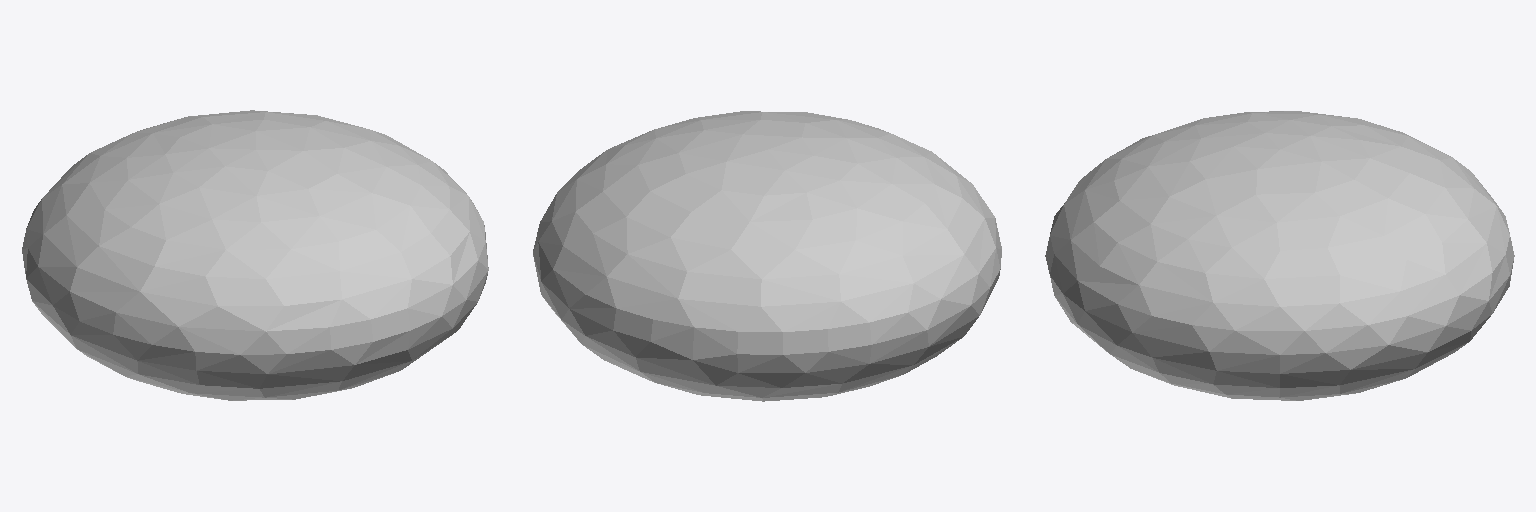
The model's file is skysphere.obj.
3 renders of one model, left to right at view 1: azimuth 30°, elevation 25°; view 2: azimuth 150°, elevation 25°; view 3: azimuth 270°, elevation 25°, orthographic.
Parts seen in each view (by area): view 1: Sphere; view 2: Sphere; view 3: Sphere.
Boxes of the visible parts, x1,y1,x2,y2 form: Sphere: [22, 110, 488, 400]; Sphere: [533, 111, 1001, 401]; Sphere: [1045, 111, 1514, 400].
Size of the model in its own units: 1024 by 512 by 1024.